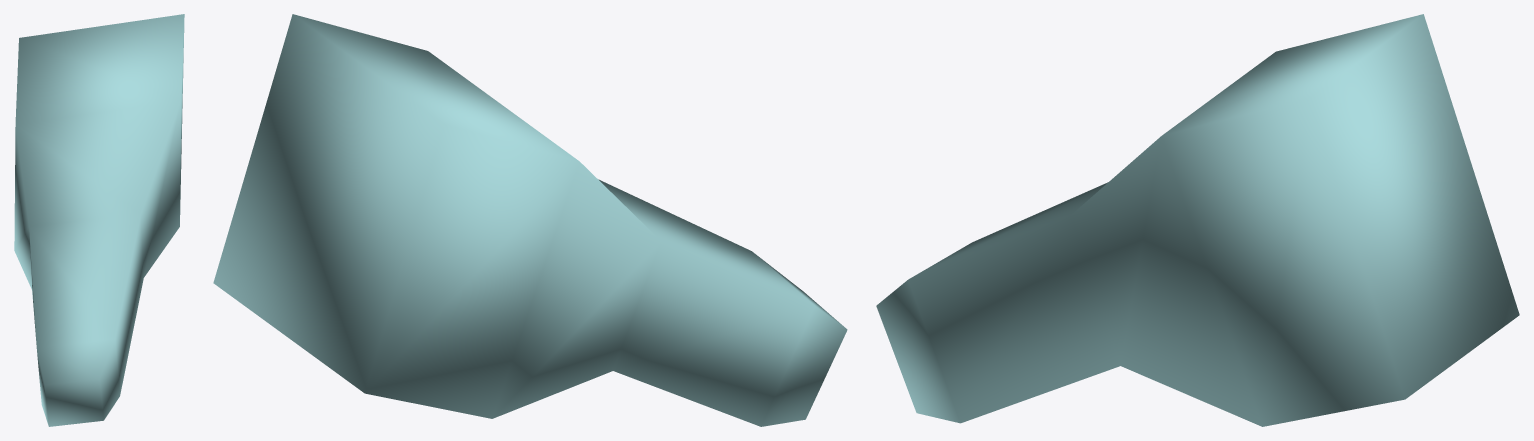
The model's file is Skelly_thumb.03.R.fbx.
3 views of the same model, side by side, from view 1: azimuth 30°, elevation 25°; view 2: azimuth 150°, elevation 25°; view 3: azimuth 270°, elevation 25° (orthographic). The views are drawn at different scales.
Visible parts, largest first — view 1: Skelly_thumb.03.R; view 2: Skelly_thumb.03.R; view 3: Skelly_thumb.03.R.
Part boxes in pixels (x1,y1,x2,y2): Skelly_thumb.03.R: (14, 14, 184, 426); Skelly_thumb.03.R: (213, 14, 847, 426); Skelly_thumb.03.R: (876, 14, 1519, 426).
Size of the model in its own units: 1.91 by 1.86 by 2.23.
